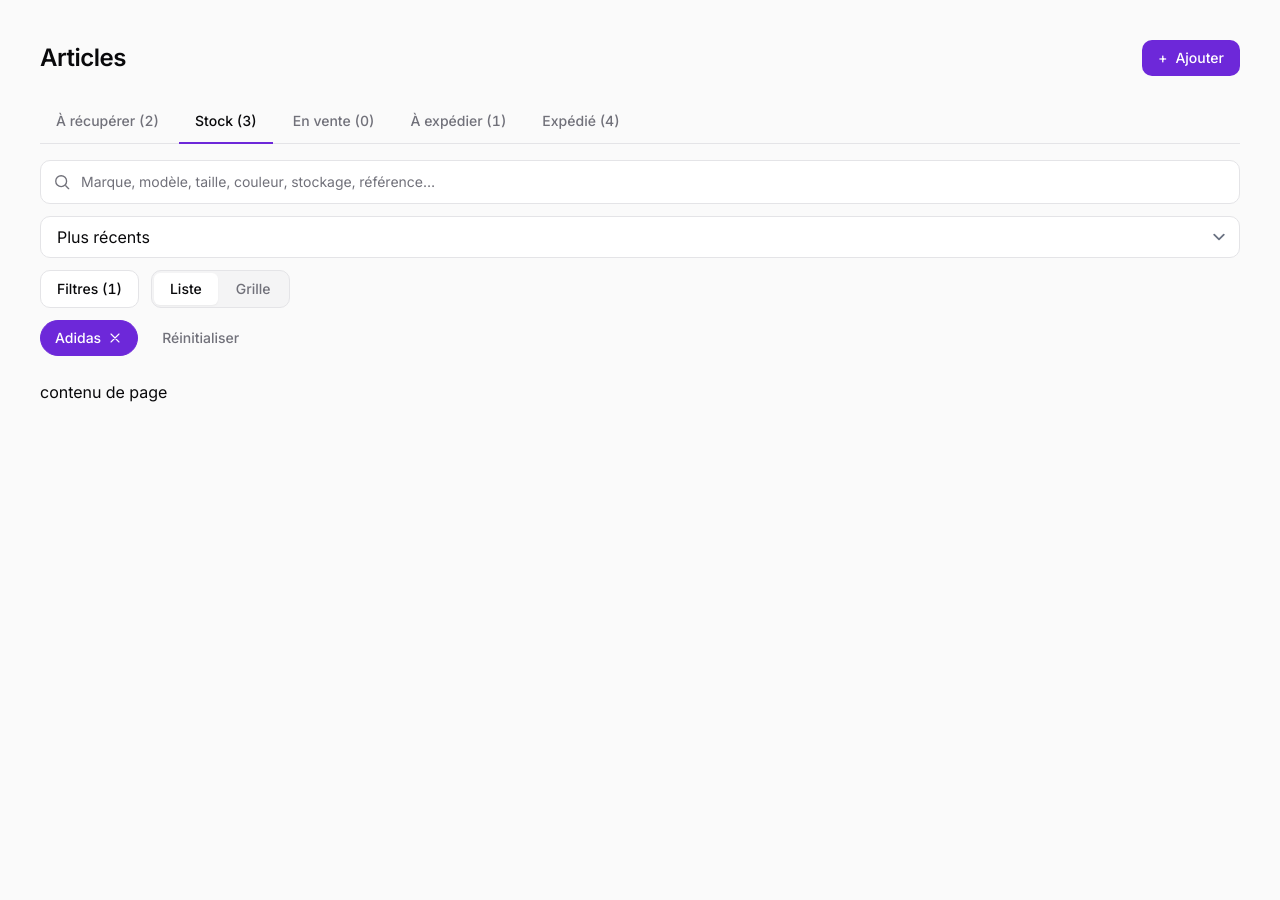
Test: layout Articles › les modèles proposés suivent les marques cochées
What coordinates should you click on to do the following:
click the button "Filtres (1)"
I would click on:
 (90, 289)
Its box is [40,270,139,308].
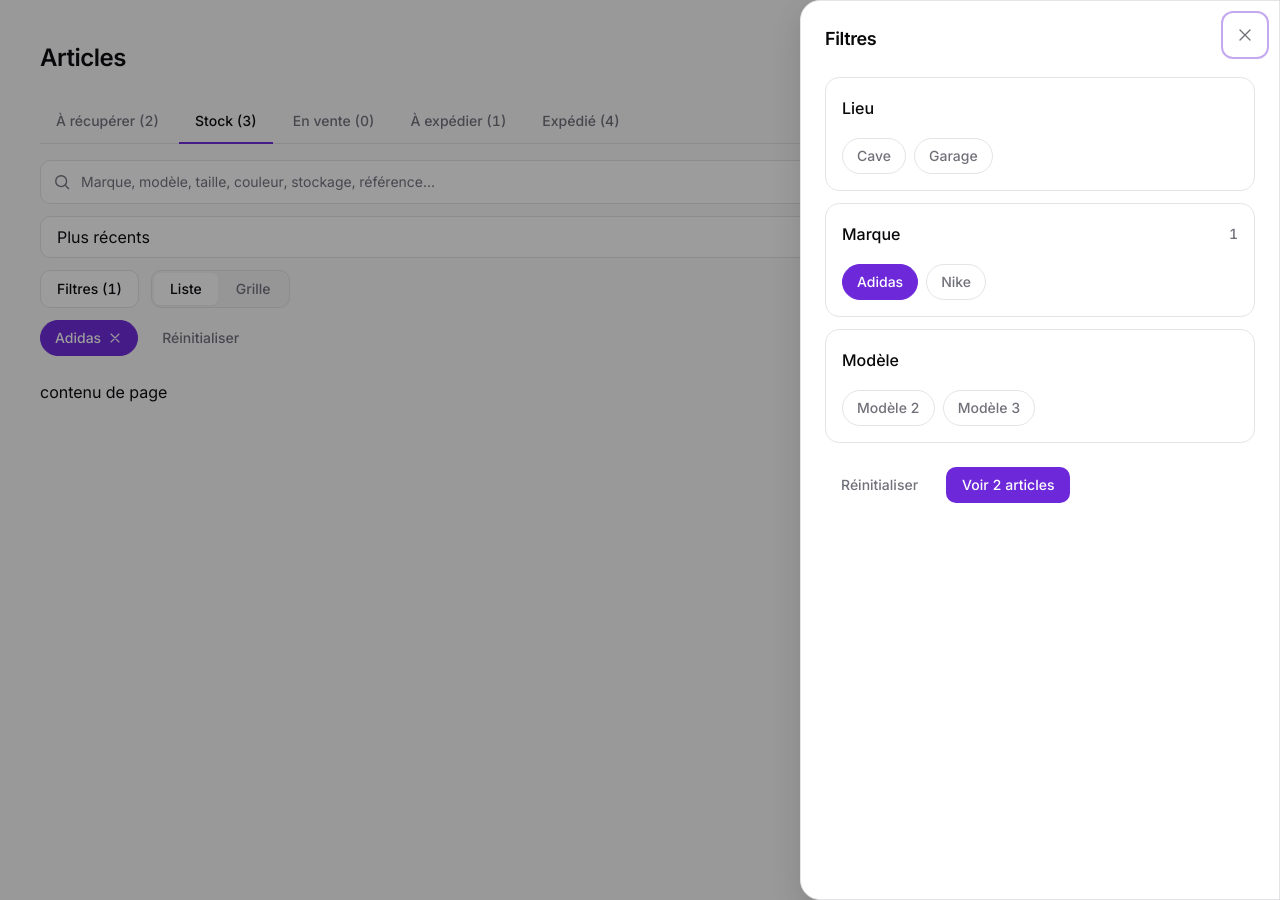
Check: the buttons read "Modèle 2", "Modèle 3", in this order, box [842,390,935,426]; [943,390,1035,426]
